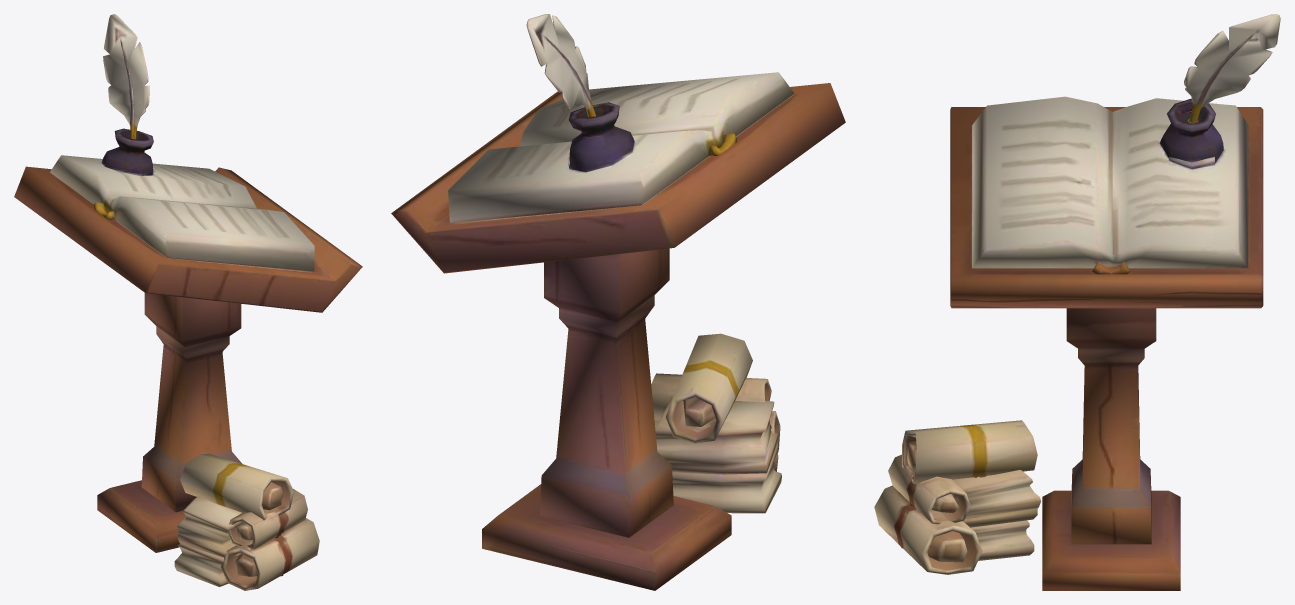
The model's file is inscription_lectern.glb.
3 renders of one model, left to right at view 1: azimuth 30°, elevation 25°; view 2: azimuth 150°, elevation 25°; view 3: azimuth 270°, elevation 25°, orthographic. The views are drawn at different scales.
Parts seen in each view (by area): view 1: tripo_node_f5b42411-e450-475b-92ef-c07794363a4c; view 2: tripo_node_f5b42411-e450-475b-92ef-c07794363a4c; view 3: tripo_node_f5b42411-e450-475b-92ef-c07794363a4c.
Boxes of the visible parts, box(x1,y1,x2,y2) form: tripo_node_f5b42411-e450-475b-92ef-c07794363a4c: box(14, 14, 362, 590); tripo_node_f5b42411-e450-475b-92ef-c07794363a4c: box(391, 14, 845, 590); tripo_node_f5b42411-e450-475b-92ef-c07794363a4c: box(874, 14, 1280, 590).
Bounding box in the file's own units: 0.5533 × 1.1 × 0.7598.
Materials: 1 (1 with a texture image).
